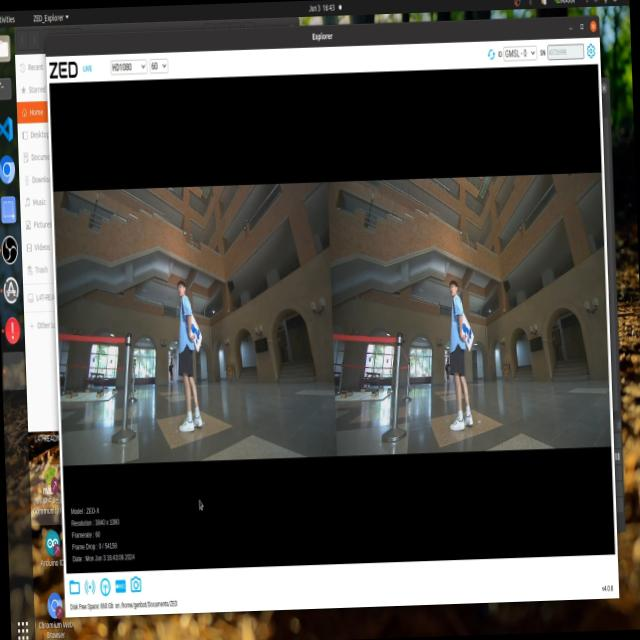blue: (190, 319, 212, 348), (461, 322, 478, 354)
